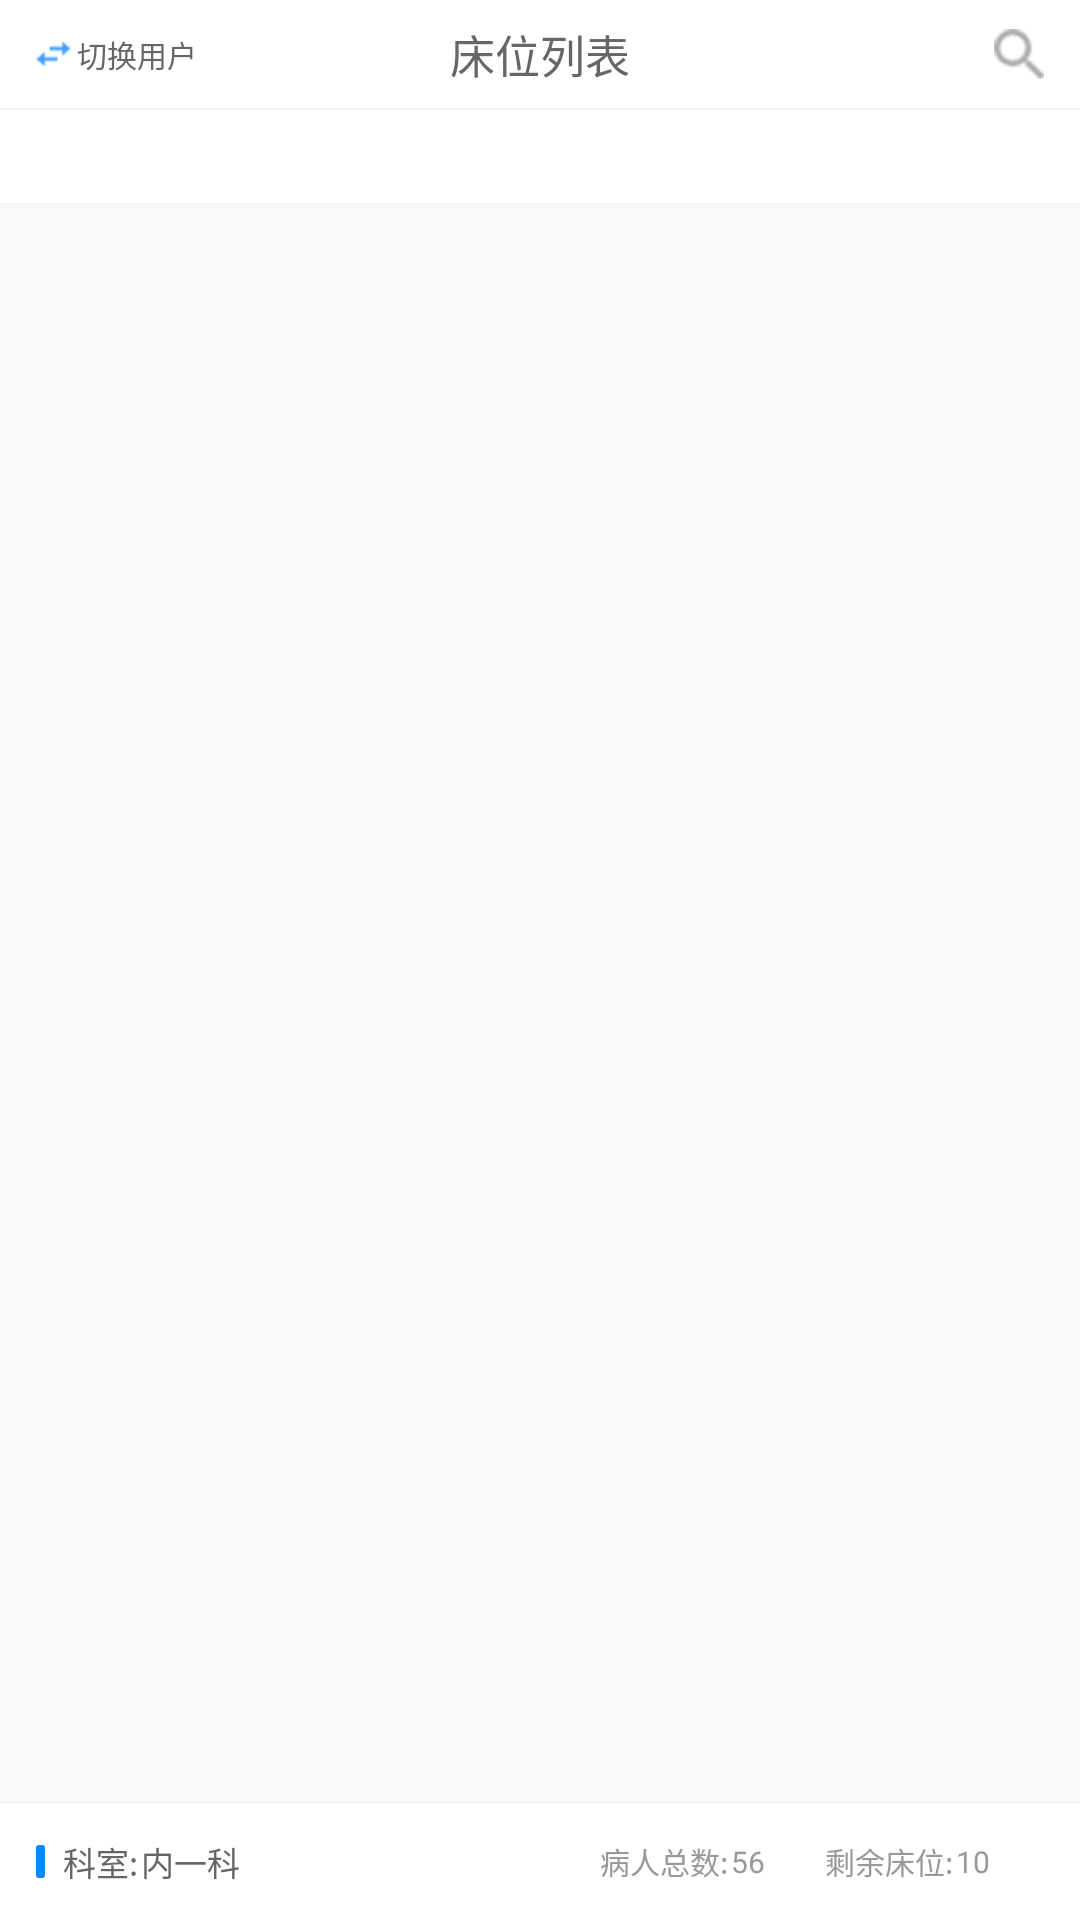

Screen size 1080px x 1920px. Icon name, then its center in pixels as point (x, y):
magnifier: point (1019, 54)
